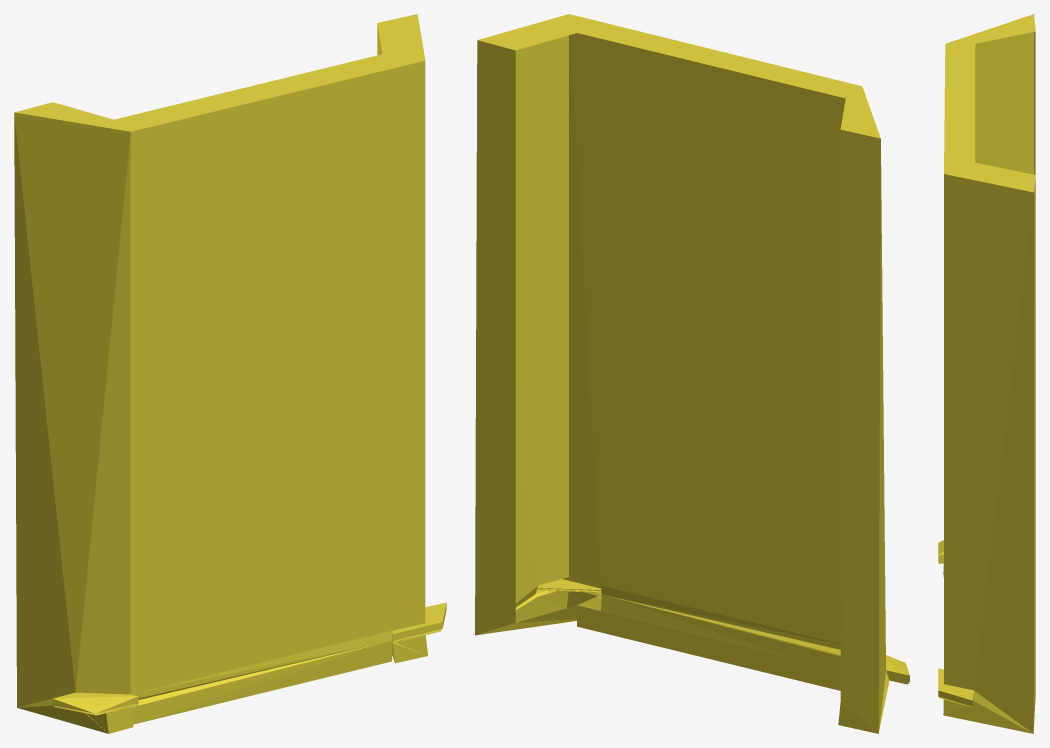
File: parede hexagonal.Low.fbx
3 views of the same model, side by side, from view 1: azimuth 30°, elevation 25°; view 2: azimuth 150°, elevation 25°; view 3: azimuth 270°, elevation 25° (orthographic). The views are drawn at different scales.
Visible parts, largest first — view 1: parede hexagonal.Low; view 2: parede hexagonal.Low; view 3: parede hexagonal.Low.
Boxes of the visible parts, left/top/right/bottom form: parede hexagonal.Low: left=14, top=14, right=446, bottom=733; parede hexagonal.Low: left=475, top=14, right=909, bottom=733; parede hexagonal.Low: left=938, top=14, right=1035, bottom=733.
Size of the model in its own units: 302 by 424 by 69.39.
